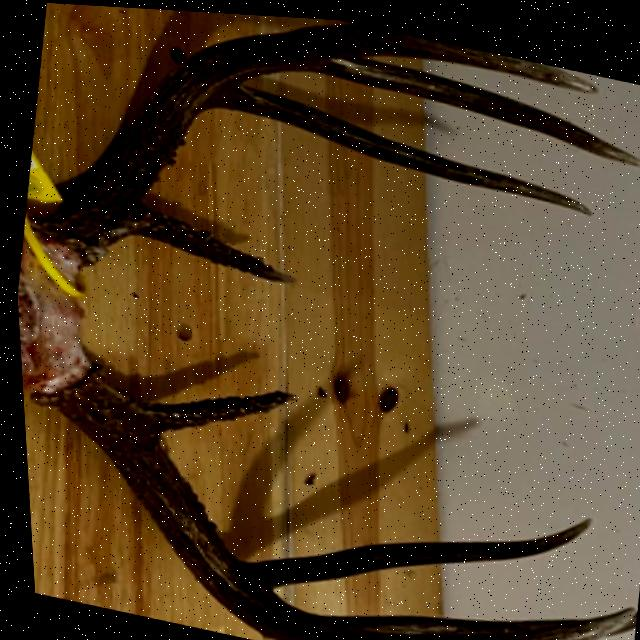L-F: (28, 362, 630, 640)
L-G1: (133, 384, 296, 432)
L-G2: (233, 509, 588, 591)
R-F: (26, 18, 596, 265)
R-G1: (120, 200, 296, 280)
R-G2: (209, 81, 592, 209)
R-G3: (300, 52, 640, 158)
